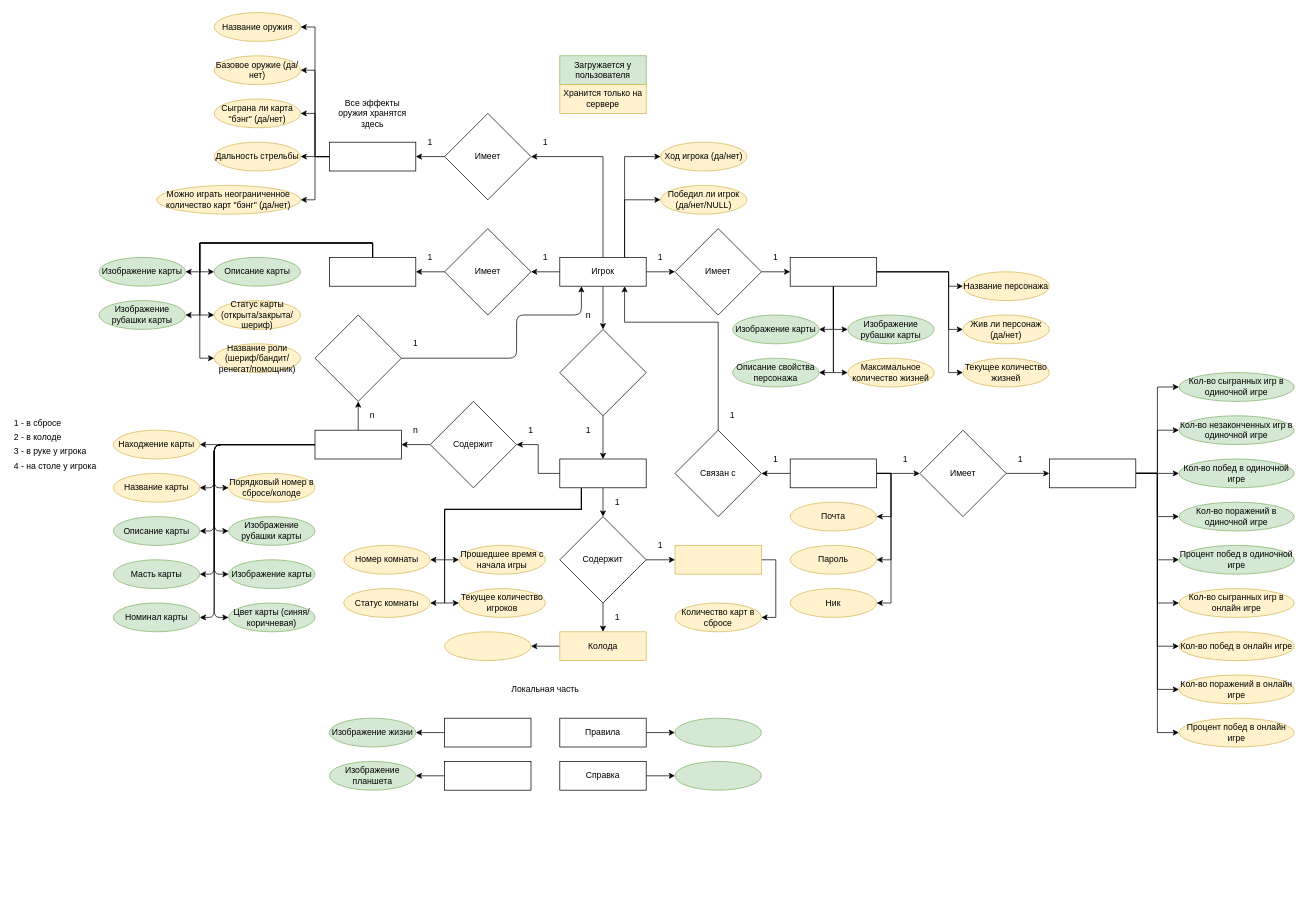
Image size: 1307x902. Some labels were removed from this diagram. The centre of each missing label's shape, as x and y in pixels:
"Достижения" goes at (x=1092, y=473).
"Жизни" goes at (x=487, y=732).
"Игровая карта" goes at (x=357, y=444).
"Игровая комната" goes at (x=602, y=473).
"Изображение правил" goes at (x=717, y=732).
"Изображение справки" goes at (x=717, y=775).
"Карта персонажей" goes at (x=833, y=271).
"Карта ролей" goes at (x=372, y=271).
"Количество карт в колоде" goes at (x=487, y=646).
"Может принадлежать" goes at (x=357, y=357).
"Находится в" goes at (x=602, y=372).
"Оружие" goes at (x=372, y=156).
"Планшет" goes at (x=487, y=775).
"Пользователь" goes at (x=833, y=473).
"Сброс" goes at (x=717, y=559).
